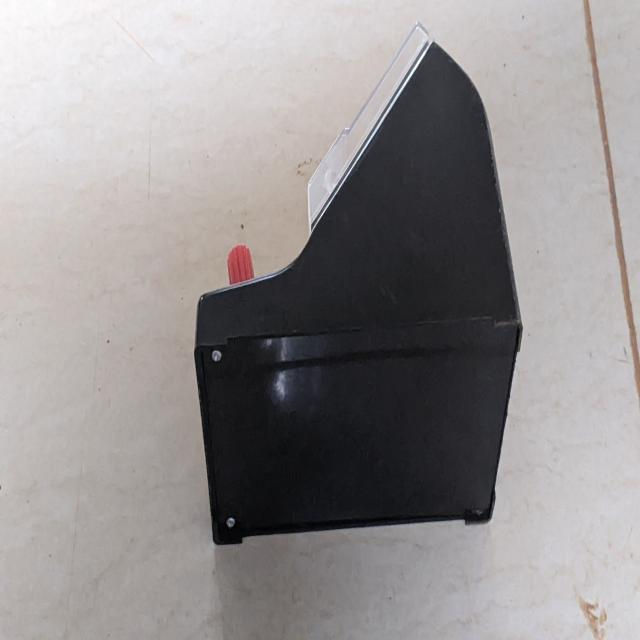Galvanometer: (178, 15, 540, 592)
